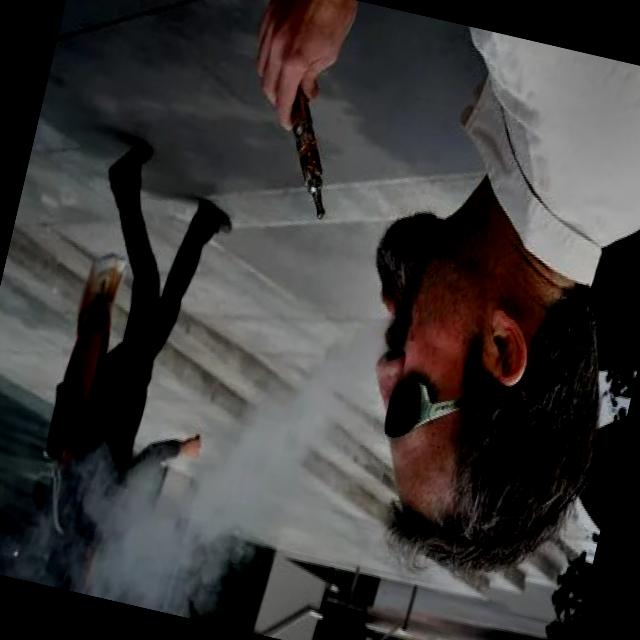cigarette: (255, 66, 362, 228)
